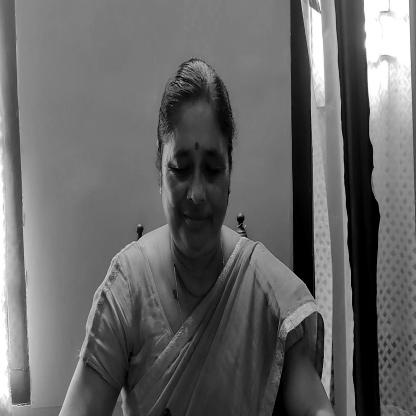Normal: (154, 53, 236, 260)
